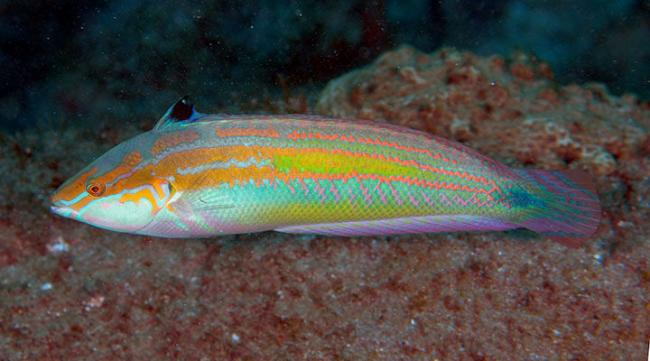fish: (49, 98, 604, 239)
